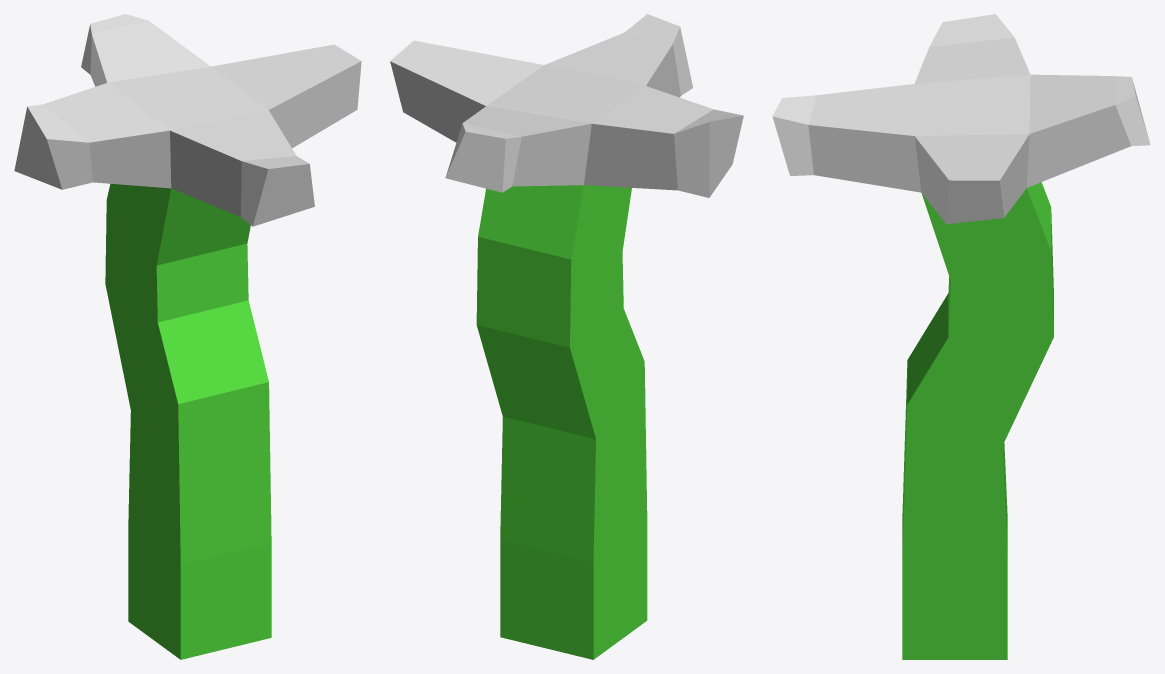
File: flower_white_1.glb
The picture shows the model from 3 angles, left to right: view 1: azimuth 30°, elevation 25°; view 2: azimuth 150°, elevation 25°; view 3: azimuth 270°, elevation 25°; orthographic projection. The views are drawn at different scales.
Parts seen in each view (by area): view 1: Cube; view 2: Cube; view 3: Cube.
Boxes of the visible parts, x1,y1,x2,y2 form: Cube: (14, 14, 361, 659); Cube: (390, 14, 743, 659); Cube: (772, 14, 1150, 659).
Bounding box in the file's own units: 0.3503 × 0.5753 × 0.3585.
